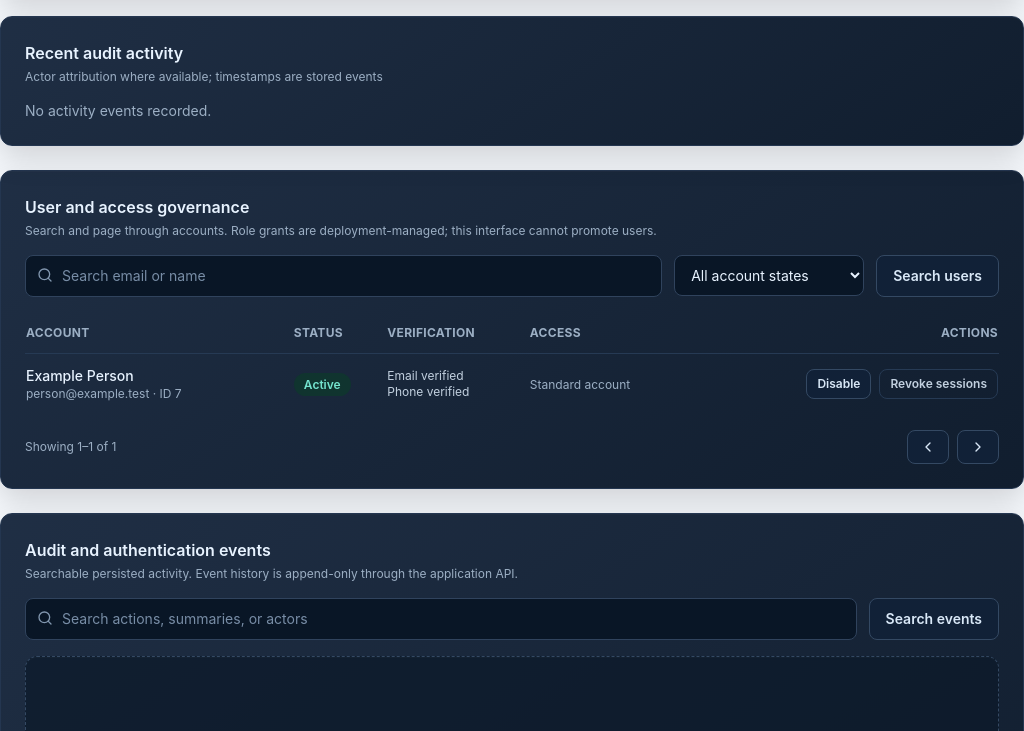
it: Admin Control Center › requires explicit re-authentication before disabling an account
The width and height of the screenshot is (1024, 731).
(page scrolled)
Expected: the text "person@example.test · ID 7" is shown, [26,386,182,401]
Step 1. Click the button "Disable" → [839, 384], box [806,369,871,399]
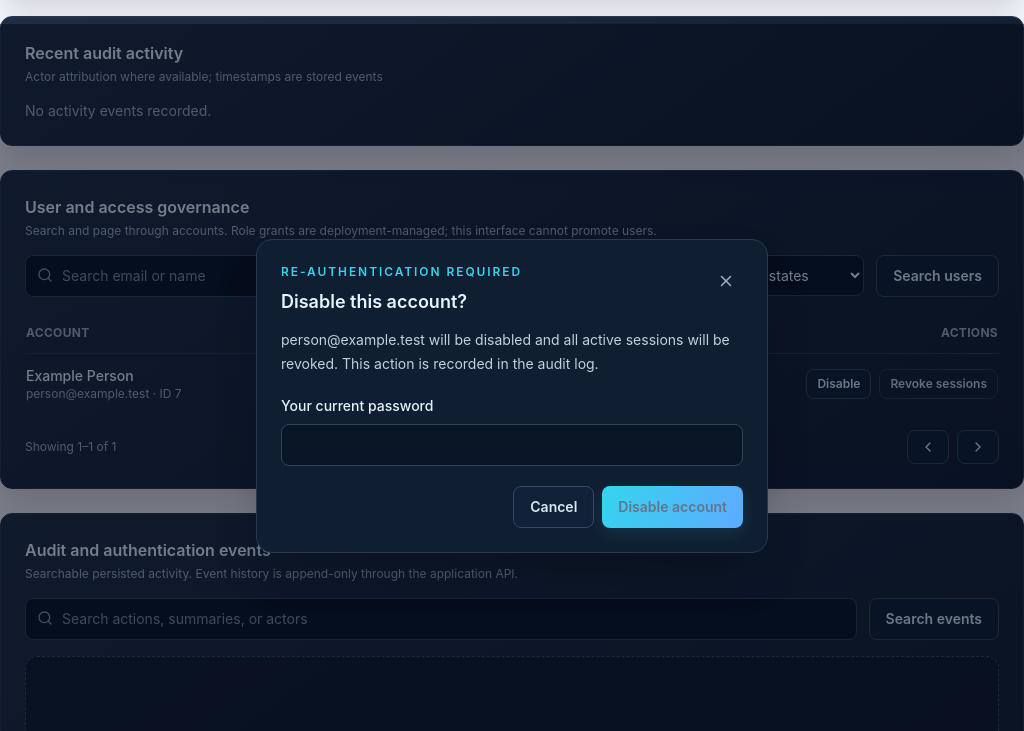
Expected: the dialog shows "all active sessions will be revoked", [281,331,730,372]
Expected: the button "Disable account" is disabled, [602,486,743,528]
Step 2. Type "current-password" into the password field labelled "Your current password" → [512, 445], box [281,424,743,466]
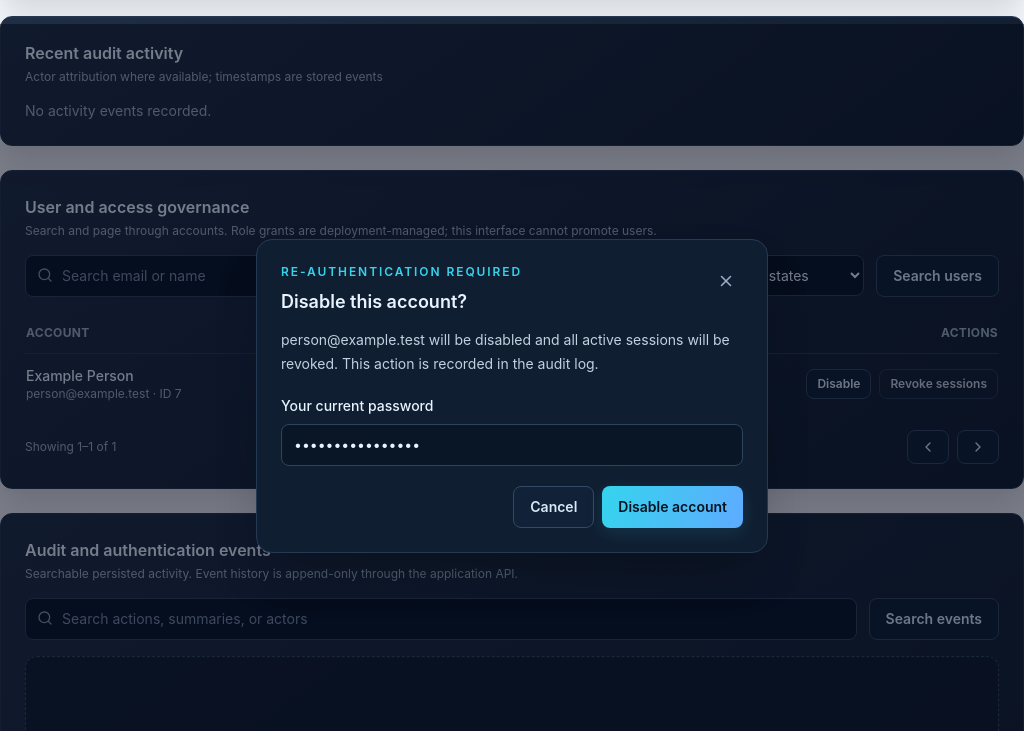
Step 3. Click the button "Disable account" → [673, 507], box [602,486,743,528]
(page scrolled)
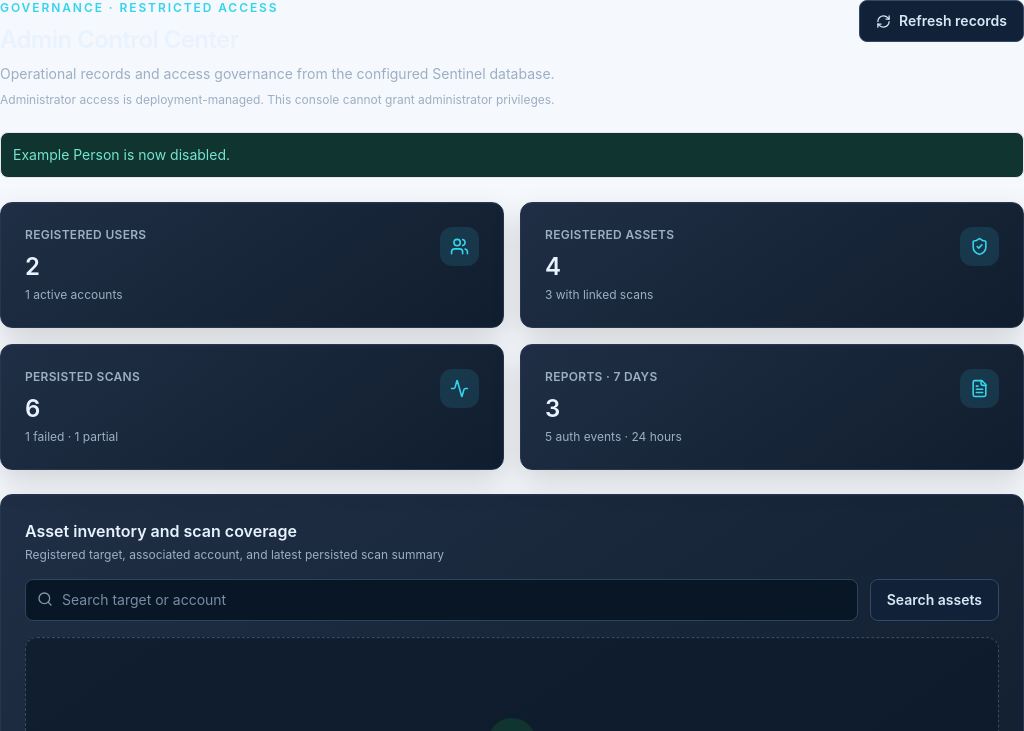
Expected: the message reads "Example Person is now disabled.", [13,146,230,163]
